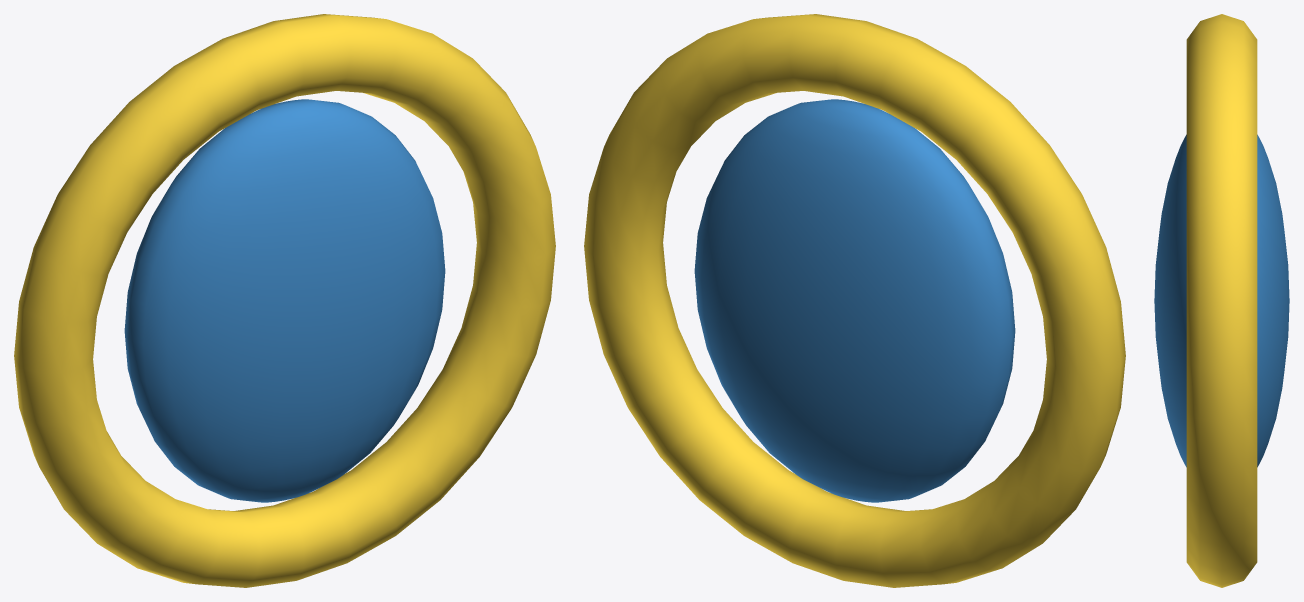
Rendered from Pickup_shield.glb.
3 renders of one model, left to right at view 1: azimuth 30°, elevation 25°; view 2: azimuth 150°, elevation 25°; view 3: azimuth 270°, elevation 25°, orthographic. The views are drawn at different scales.
Visible parts, largest first — view 1: Pickup ring.001, Shield; view 2: Pickup ring.001, Shield; view 3: Pickup ring.001, Shield.
Boxes of the visible parts, x1,y1,x2,y2 form: Pickup ring.001: [14, 14, 555, 587]; Shield: [124, 99, 445, 502]; Pickup ring.001: [584, 14, 1125, 587]; Shield: [694, 99, 1015, 502]; Pickup ring.001: [1186, 14, 1257, 587]; Shield: [1154, 134, 1289, 467].
Size of the model in its own units: 0.85 by 0.85 by 0.2.
